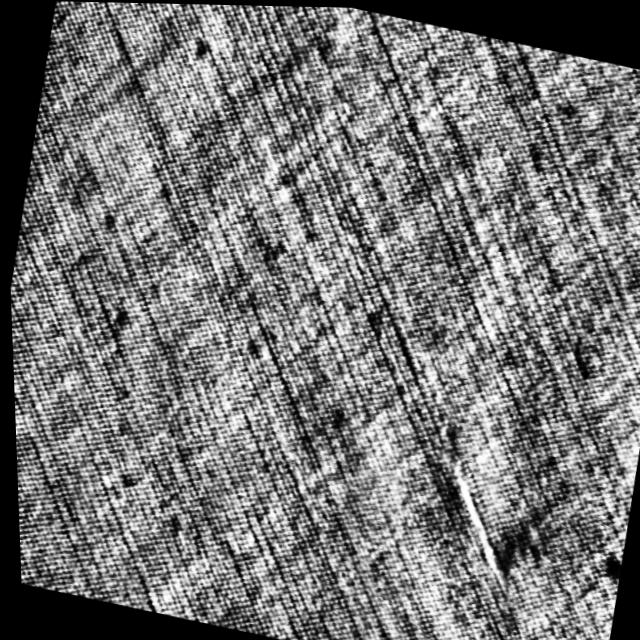Stitch: (428, 449, 540, 587)
